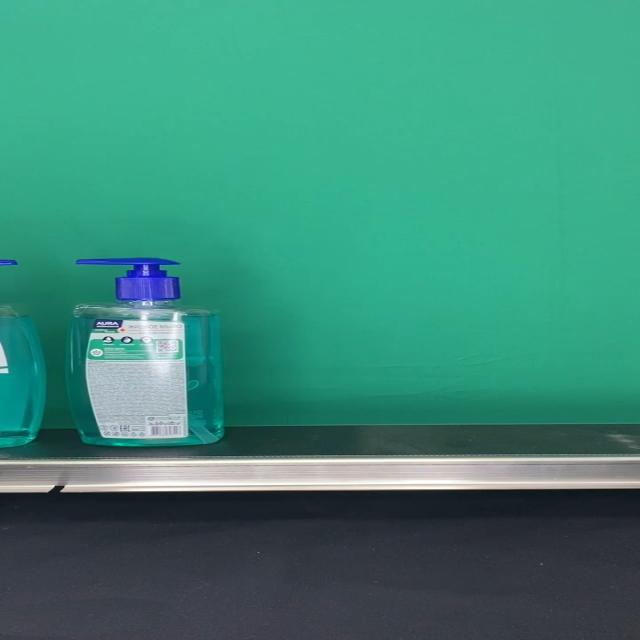Bottle: (66, 258, 224, 447)
Cap: (77, 258, 181, 301)
